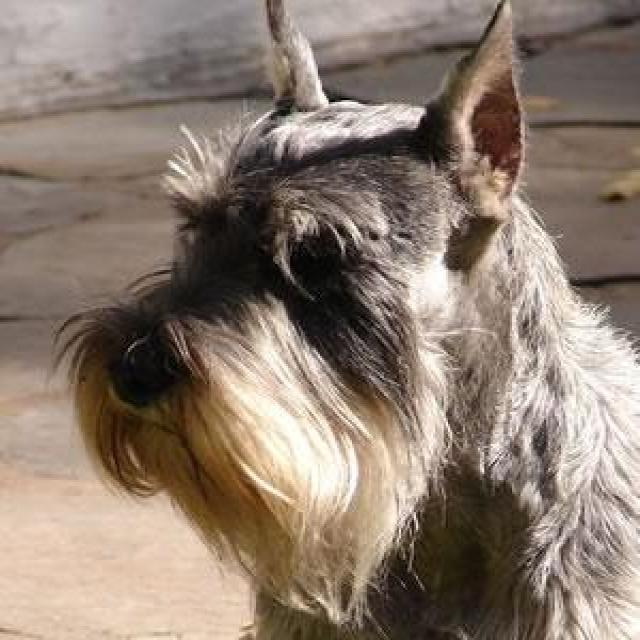standard_schnauzer: (60, 0, 638, 638)
